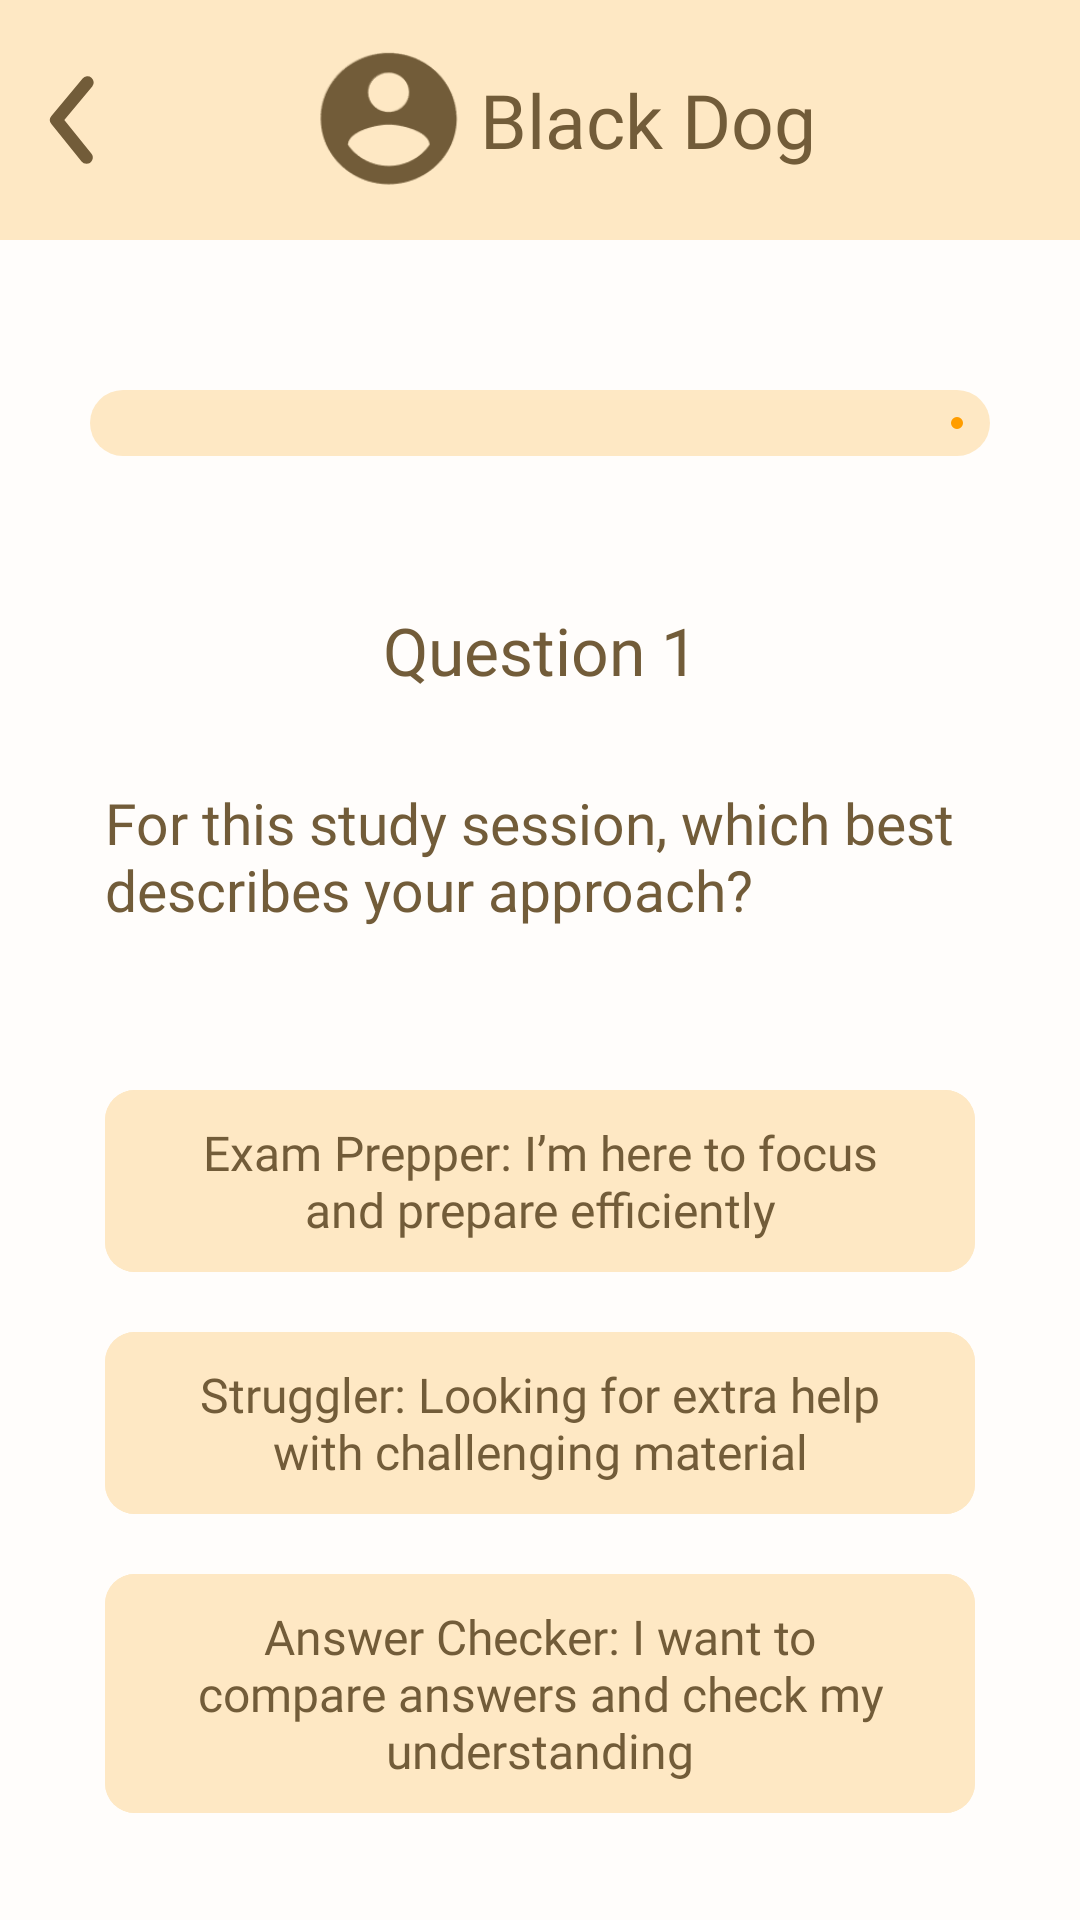

Icon bounding boxes for this 1080 × 1920 phone screenshot, format rect(x1, y1, x2, y2):
on surface profile photo: rect(320, 53, 457, 185)
